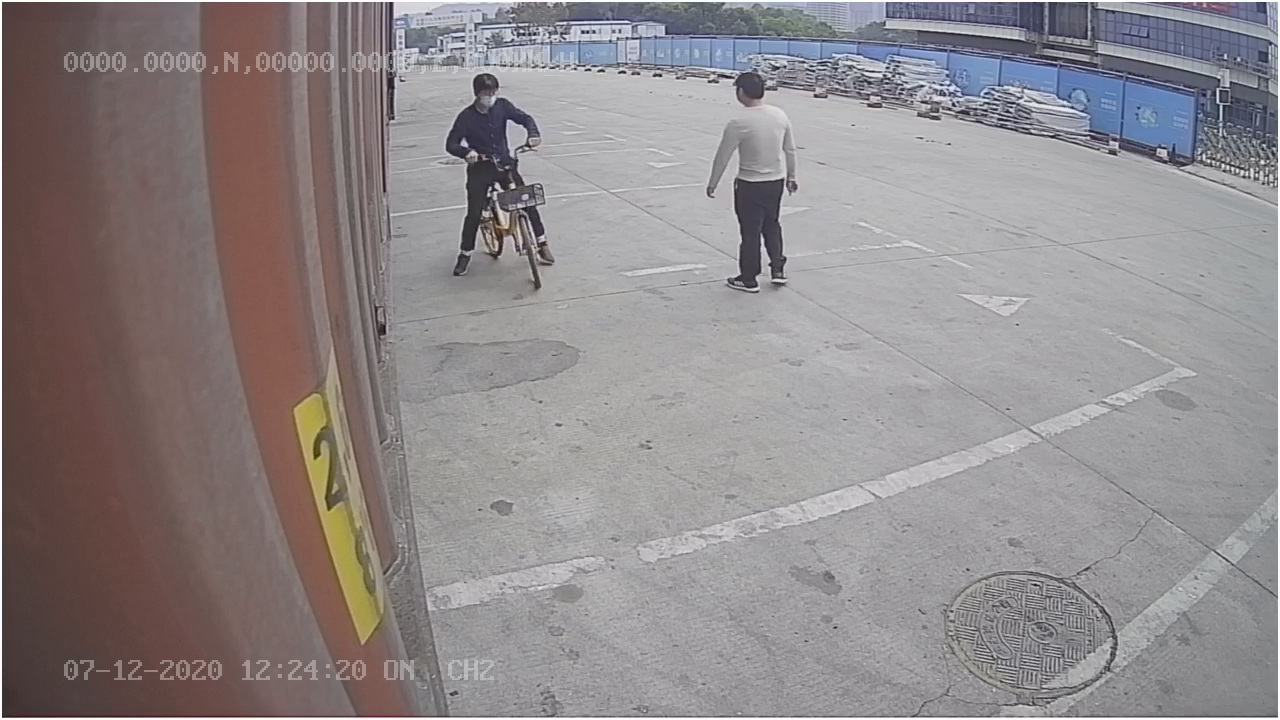person: (701, 67, 807, 297)
